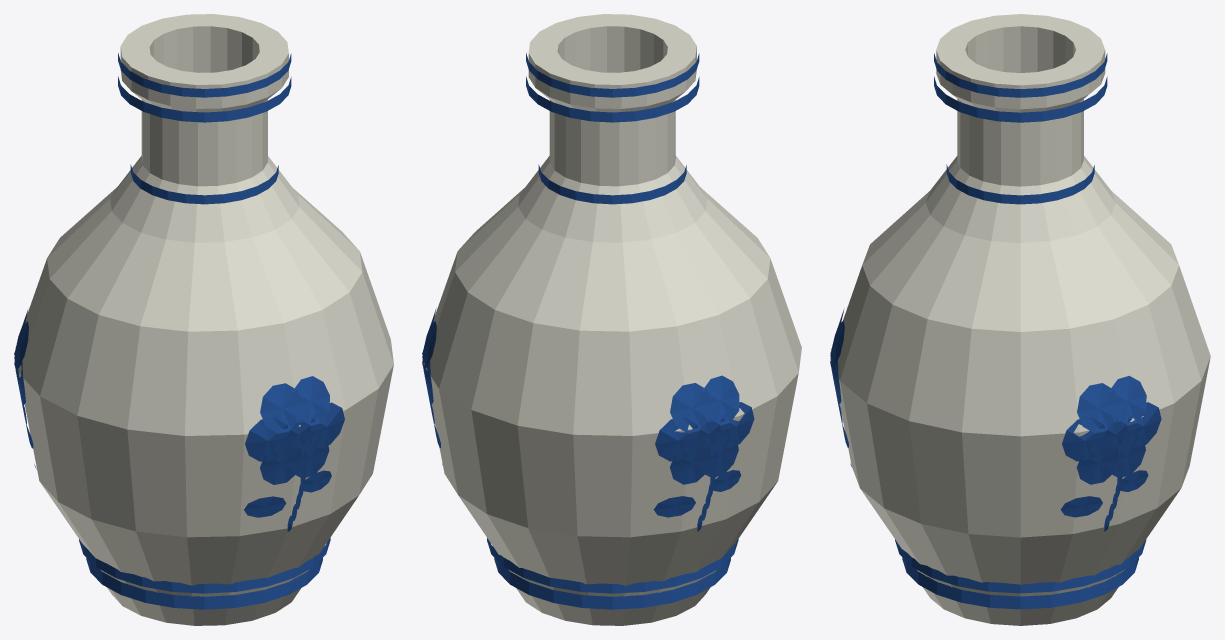
File: qinghuaci-icon-source.glb
3 views of the same model, side by side, from view 1: azimuth 30°, elevation 25°; view 2: azimuth 150°, elevation 25°; view 3: azimuth 270°, elevation 25° (orthographic).
Parts seen in each view (by area): view 1: porcelain_body, cobalt_bands; view 2: porcelain_body, cobalt_bands; view 3: porcelain_body, cobalt_bands.
Boxes of the visible parts, x1,y1,x2,y2 form: porcelain_body: [15, 14, 393, 625]; cobalt_bands: [14, 53, 344, 609]; porcelain_body: [423, 14, 801, 625]; cobalt_bands: [422, 53, 754, 609]; porcelain_body: [830, 14, 1210, 625]; cobalt_bands: [830, 53, 1161, 609].
Size of the model in its own units: 0.72 by 1.12 by 0.7207.
